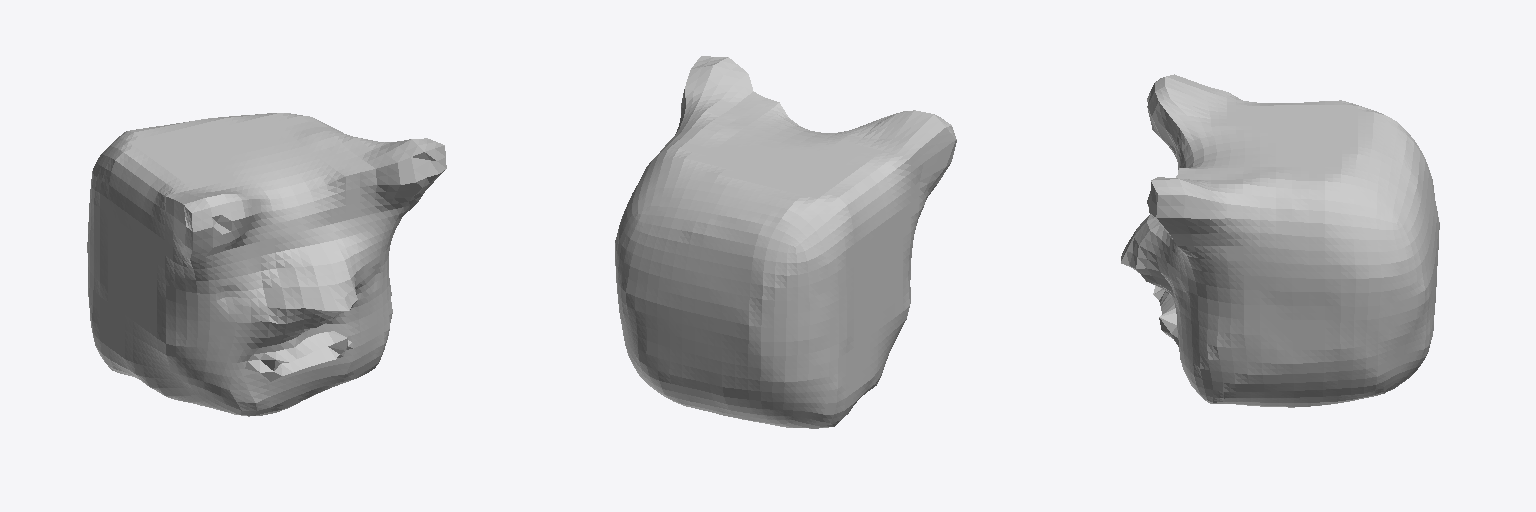
The model's file is littleman.obj.
The picture shows the model from 3 angles: view 1: azimuth 30°, elevation 25°; view 2: azimuth 150°, elevation 25°; view 3: azimuth 270°, elevation 25°; orthographic projection.
Parts seen in each view (by area): view 1: Cube; view 2: Cube; view 3: Cube.
Part boxes in pixels (x1,y1,x2,y2): Cube: (87,113,446,416); Cube: (615,56,956,428); Cube: (1121,74,1439,407).
Size of the model in its own units: 2.28 by 2.17 by 2.45.